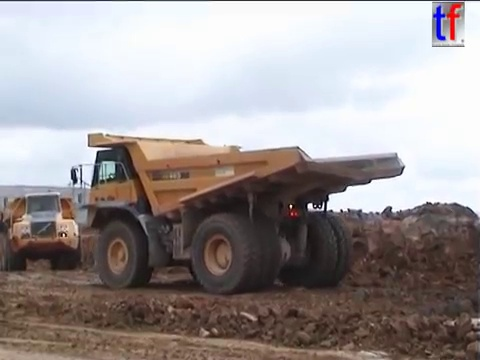truck: (69, 128, 406, 296), (1, 188, 82, 274)
